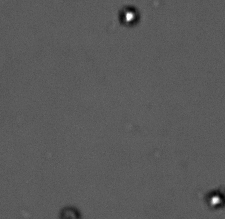Living Cell: (119, 5, 140, 26), (206, 190, 224, 209)
